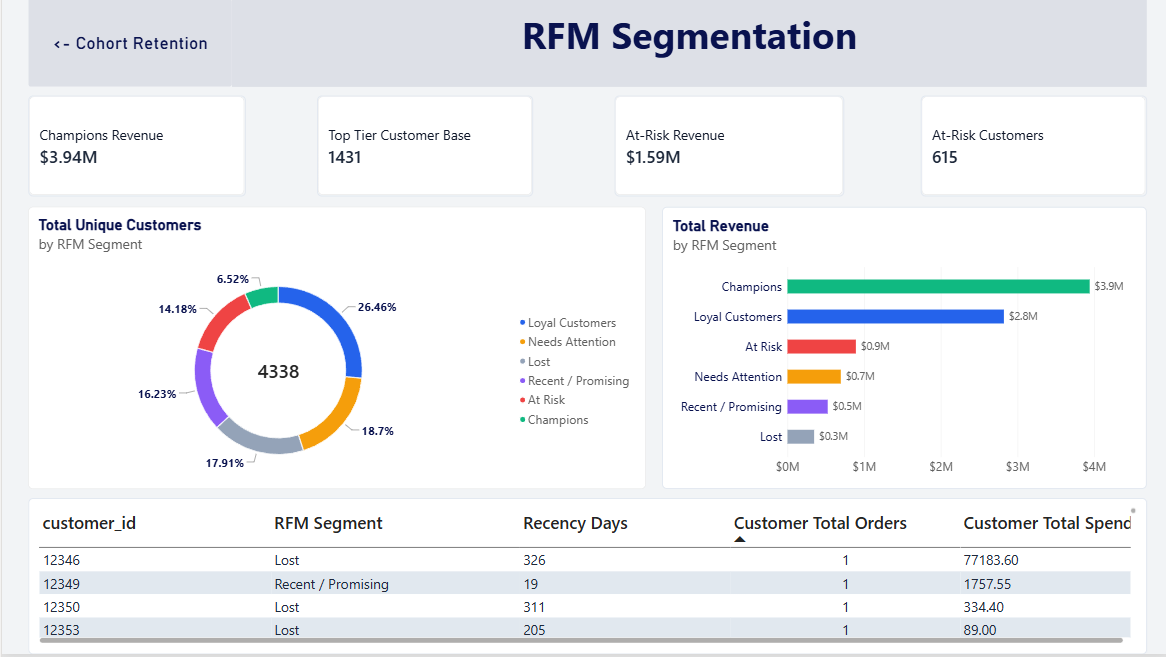

What the dashboard file says about the page in this screenshot:
{"tool":"powerbi","page":{"name":"RFM Segmentation","canvas":[1920,1080],"ordinal":2},"visuals":[{"type":"donutChart","fields":{"Category":["rfm_cohort_project v_clean_retail_2011.RFM Segment"],"Y":["measures (2).Total Unique Customers"]},"box":[43.2,343.7,1016.8,465.2],"z":0},{"type":"clusteredBarChart","fields":{"Category":["rfm_cohort_project v_clean_retail_2011.RFM Segment"],"Y":["measures (2).Total Revenue"]},"box":[1086.8,343.7,798.6,465.2],"z":1000},{"type":"tableEx","fields":{"Values":["rfm_cohort_project v_clean_retail_2011.customer_id","rfm_cohort_project v_clean_retail_2011.RFM Segment","rfm_cohort_project v_clean_retail_2011.Recency Days","rfm_cohort_project v_clean_retail_2011.Customer Total Orders","rfm_cohort_project v_clean_retail_2011.Customer Total Spend"]},"box":[43.2,823.3,1842.2,257.3],"z":2000},{"type":"cardVisual","fields":{"Data":["measures (2).Champions Revenue"]},"box":[43.2,160.5,358.1,166.7],"z":3000},{"type":"cardVisual","fields":{"Data":["measures (2).Top Tier Customers"]},"box":[518.7,160.5,356.1,166.7],"z":4000},{"type":"cardVisual","fields":{"Data":["measures (2).At-Risk Revenue"]},"box":[1008.6,160.5,378.7,166.7],"z":5000},{"type":"cardVisual","fields":{"Data":["measures (2).At-Risk Customers"]},"box":[1512.9,160.5,372.6,166.7],"z":6000},{"type":"actionButton","title":"RFM Segmentation","box":[378.7,0,1506.7,146.1],"z":6001},{"type":"actionButton","title":"<- Cohort Retention","box":[43.2,0,335.5,146.1],"z":6002}]}

Visuals, with their boxes in screenshot pixels (x1, y1, x2, y2), scaled from the page's 1920x1080 canvas onto the 1166x657 screenshot:
donutChart - rfm_cohort_project v_clean_retail_2011.RFM Segment x measures (2).Total Unique Customers: {"left": 26, "top": 209, "right": 644, "bottom": 492}
clusteredBarChart - rfm_cohort_project v_clean_retail_2011.RFM Segment x measures (2).Total Revenue: {"left": 660, "top": 209, "right": 1145, "bottom": 492}
tableEx - rfm_cohort_project v_clean_retail_2011.customer_id x rfm_cohort_project v_clean_retail_2011.RFM Segment: {"left": 26, "top": 501, "right": 1145, "bottom": 656}
cardVisual - measures (2).Champions Revenue: {"left": 26, "top": 98, "right": 244, "bottom": 199}
cardVisual - measures (2).Top Tier Customers: {"left": 315, "top": 98, "right": 531, "bottom": 199}
cardVisual - measures (2).At-Risk Revenue: {"left": 613, "top": 98, "right": 842, "bottom": 199}
cardVisual - measures (2).At-Risk Customers: {"left": 919, "top": 98, "right": 1145, "bottom": 199}
"RFM Segmentation" actionButton: {"left": 230, "top": 0, "right": 1145, "bottom": 89}
"<- Cohort Retention" actionButton: {"left": 26, "top": 0, "right": 230, "bottom": 89}
